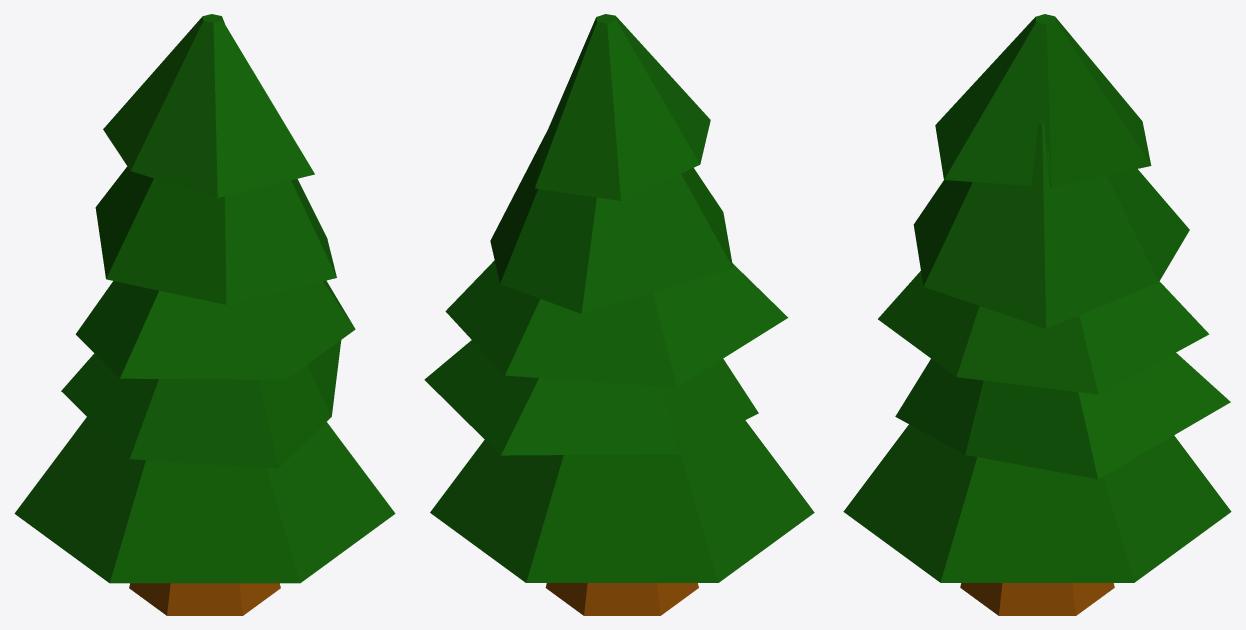
Rendered from polypine.fbx.
3 renders of one model, left to right at view 1: azimuth 30°, elevation 25°; view 2: azimuth 150°, elevation 25°; view 3: azimuth 270°, elevation 25°, orthographic.
Parts seen in each view (by area): view 1: Cylinder.001, Cylinder.004, Cylinder.005, Cylinder.002, Cylinder.003, Cylinder; view 2: Cylinder.001, Cylinder.003, Cylinder.004, Cylinder.002, Cylinder.005, Cylinder; view 3: Cylinder.001, Cylinder.004, Cylinder.002, Cylinder.005, Cylinder.003, Cylinder.
Boxes of the visible parts, x1,y1,x2,y2 form: Cylinder.001: [14, 417, 395, 583]; Cylinder.004: [95, 166, 336, 304]; Cylinder.005: [103, 14, 314, 197]; Cylinder.002: [61, 340, 341, 468]; Cylinder.003: [75, 280, 355, 379]; Cylinder: [129, 583, 280, 615]; Cylinder.001: [430, 420, 814, 582]; Cylinder.003: [445, 260, 788, 387]; Cylinder.004: [490, 132, 732, 313]; Cylinder.002: [424, 340, 758, 455]; Cylinder.005: [535, 14, 710, 200]; Cylinder: [545, 583, 698, 615]; Cylinder.001: [843, 424, 1231, 582]; Cylinder.004: [913, 122, 1189, 328]; Cylinder.002: [895, 353, 1230, 479]; Cylinder.005: [935, 14, 1151, 187]; Cylinder.003: [878, 271, 1209, 394]; Cylinder: [960, 583, 1114, 615].
Size of the model in its own units: 1103 by 1923 by 1177.
